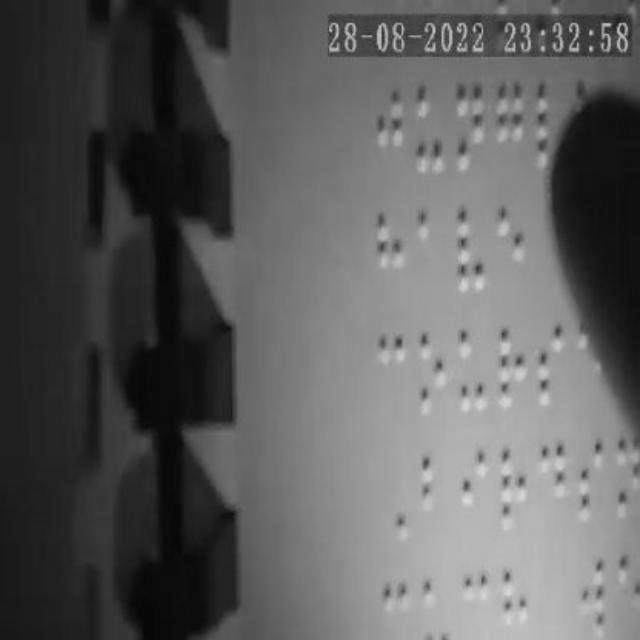braiile: (494, 444, 534, 536), (413, 80, 449, 176), (536, 437, 572, 533), (454, 205, 490, 298), (414, 205, 450, 297), (454, 328, 490, 420), (414, 333, 450, 423), (574, 440, 610, 530), (417, 448, 453, 538), (454, 81, 486, 179), (492, 79, 526, 171), (494, 203, 526, 299), (496, 324, 528, 418), (372, 214, 406, 302), (460, 446, 492, 538), (372, 86, 404, 176), (376, 331, 408, 421), (536, 320, 566, 416)
